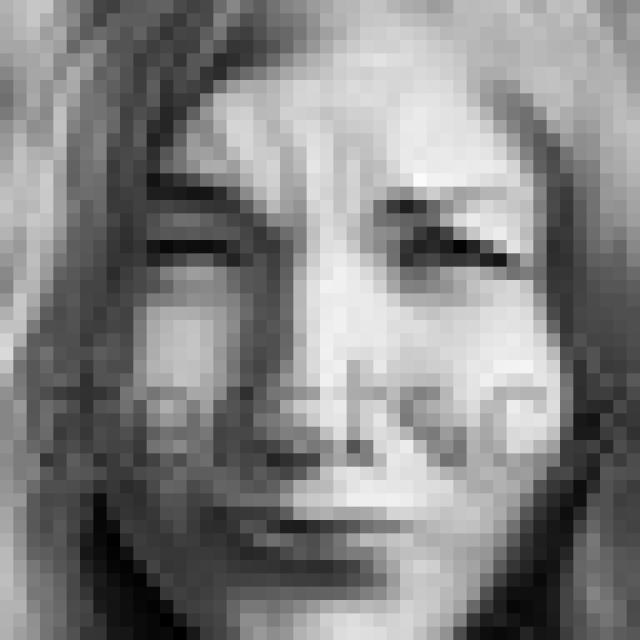disgust: (142, 170, 540, 601)
